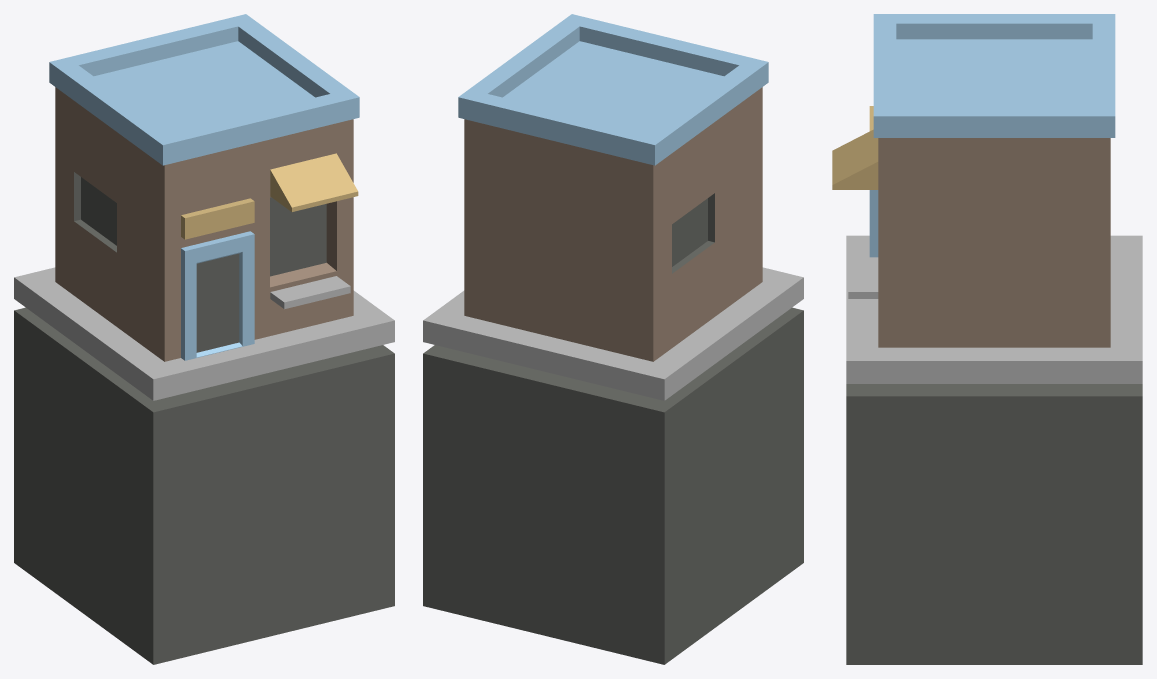
File: house_Block_orign.fbx
3 views of the same model, side by side, from view 1: azimuth 30°, elevation 25°; view 2: azimuth 150°, elevation 25°; view 3: azimuth 270°, elevation 25° (orthographic). The views are drawn at different scales.
Visible parts, largest first — view 1: floor_base, polySurface6, house2, house, polySurface4, polySurface8, polySurface5, polySurface9; view 2: floor_base, polySurface6, house2, house; view 3: floor_base, polySurface6, house2, house, polySurface8, polySurface9, polySurface4.
Part boxes in pixels (x1,y1,x2,y2): floor_base: (14,307,394,664); polySurface6: (55,87,353,361); house2: (49,14,359,165); house: (14,267,394,400); polySurface4: (181,231,254,360); polySurface8: (270,153,358,211); polySurface5: (181,198,254,239); polySurface9: (270,276,350,309); floor_base: (423,307,803,664); polySurface6: (464,87,762,361); house2: (458,14,768,165); house: (423,267,803,400); floor_base: (846,384,1142,664); polySurface6: (878,138,1110,347); house2: (873,14,1115,137); house: (846,235,1142,383); polySurface8: (832,129,878,189); polySurface9: (848,257,878,298); polySurface4: (869,190,878,257).
Bounding box in the file's own units: 5 × 10 × 5.23.
